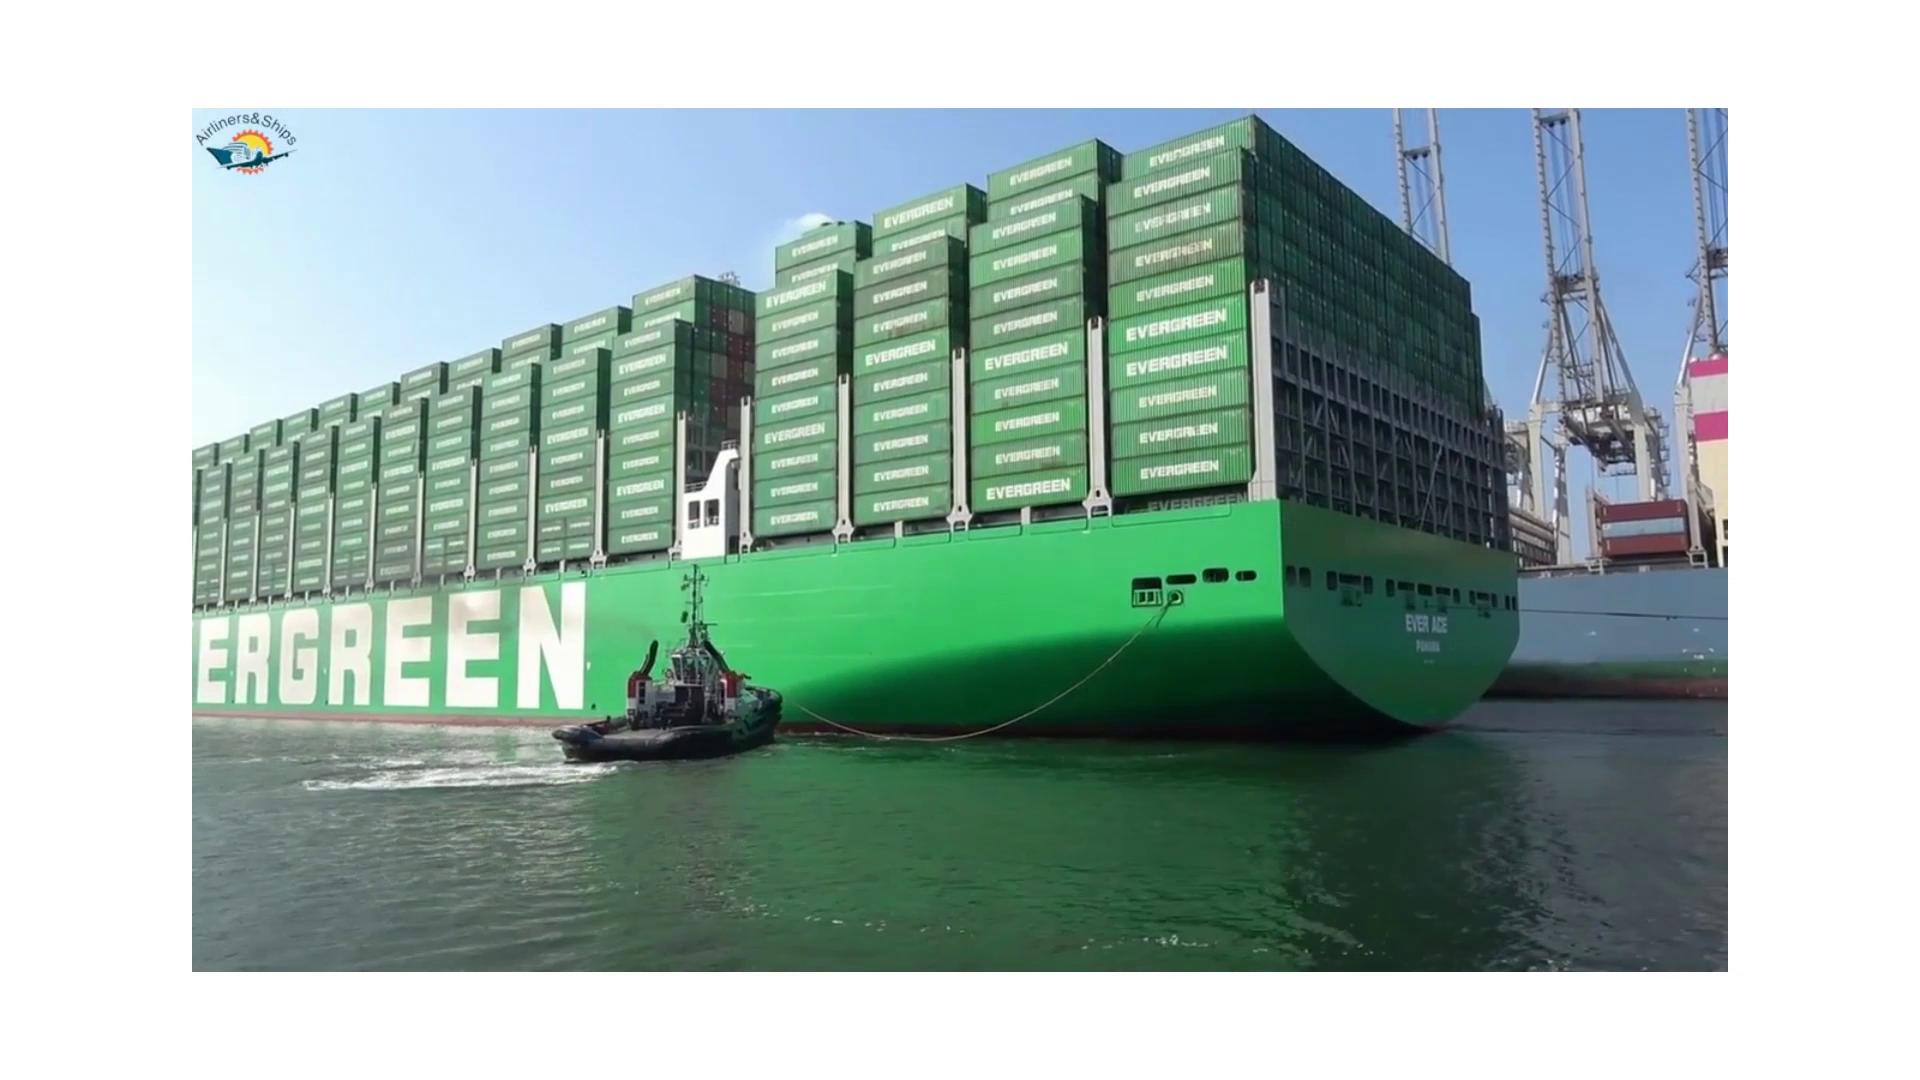OCR: (203, 570, 622, 744)
